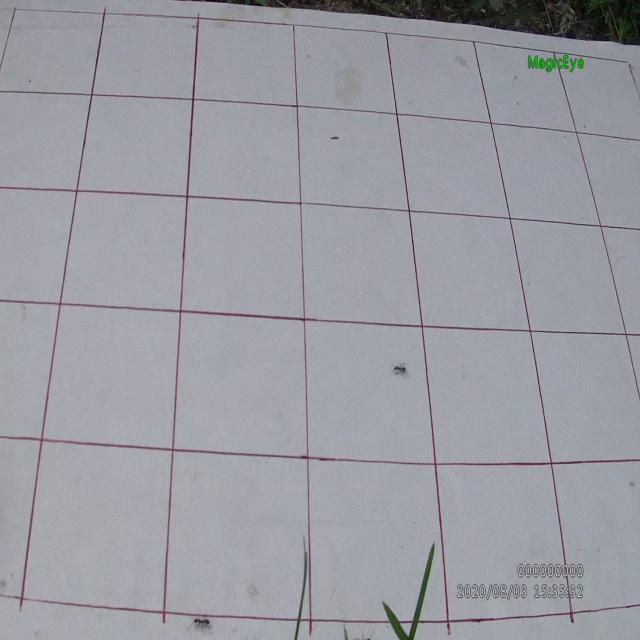Ant: (186, 615, 213, 635), (390, 361, 409, 379)
